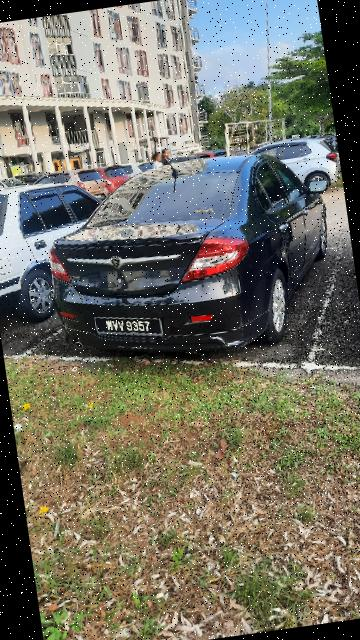License_Plate: (93, 306, 174, 354)
car: (32, 138, 353, 385), (1, 164, 134, 338)
